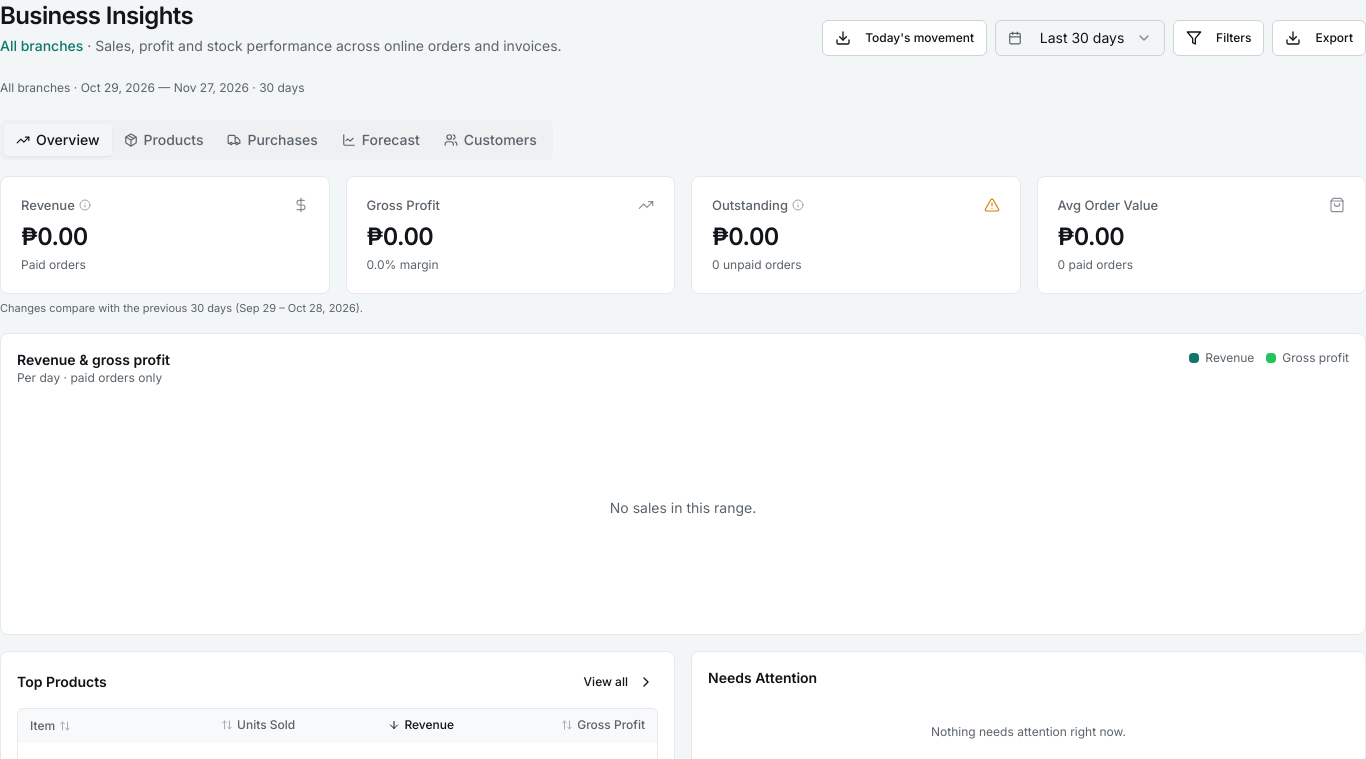
Scenario: BusinessInsightsPage › offers a sort control on the Products tab so cards stay sortable without table headers
Later steps or results of the test are not shown.
Press the mouse on the tab "Products": (163, 140) [112,124,215,156]
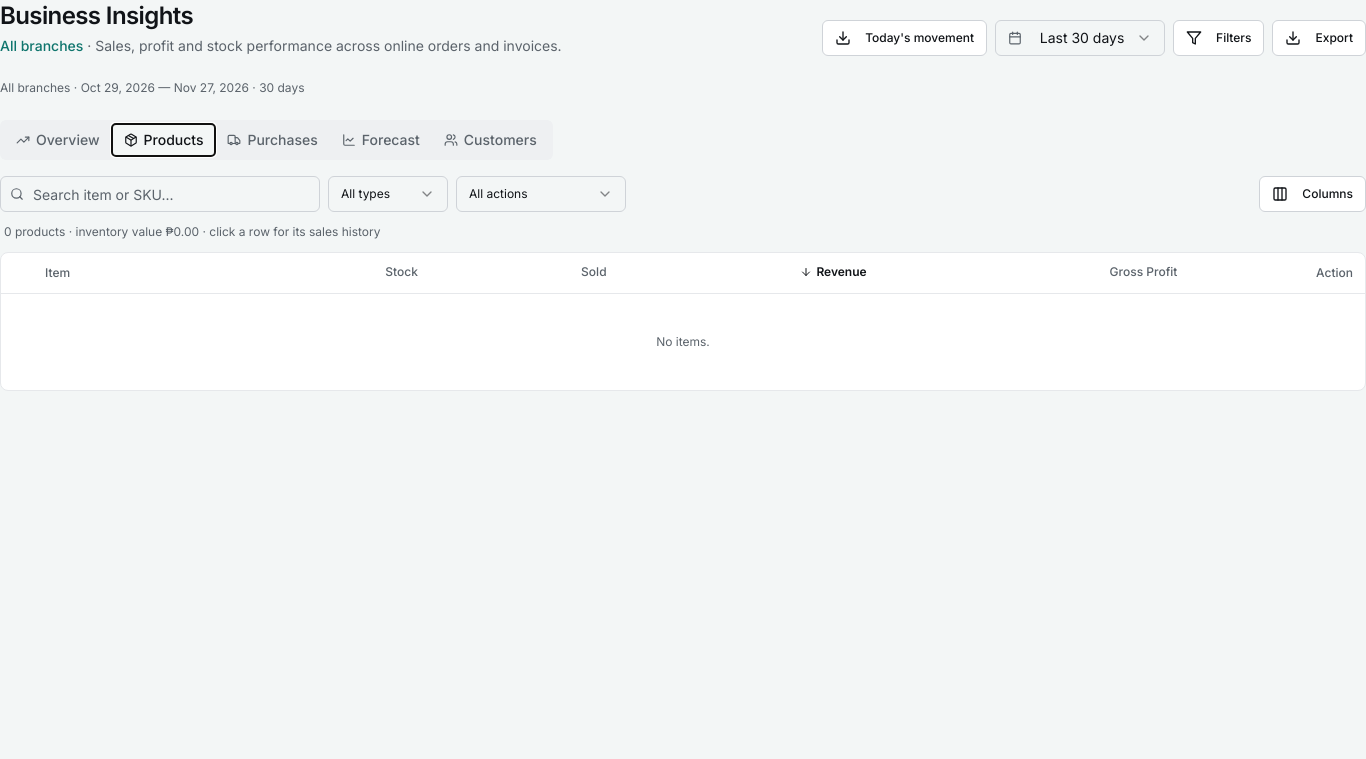
Check: the dropdown named "Product type" is shown, box [328,176,448,212]
Check: the dropdown named "Suggested action" is shown, box [456,176,626,212]
